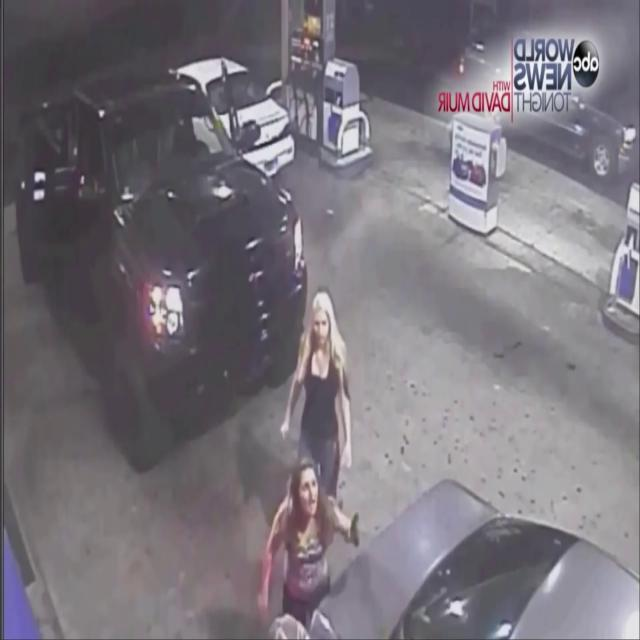Gun: (349, 512, 362, 550)
